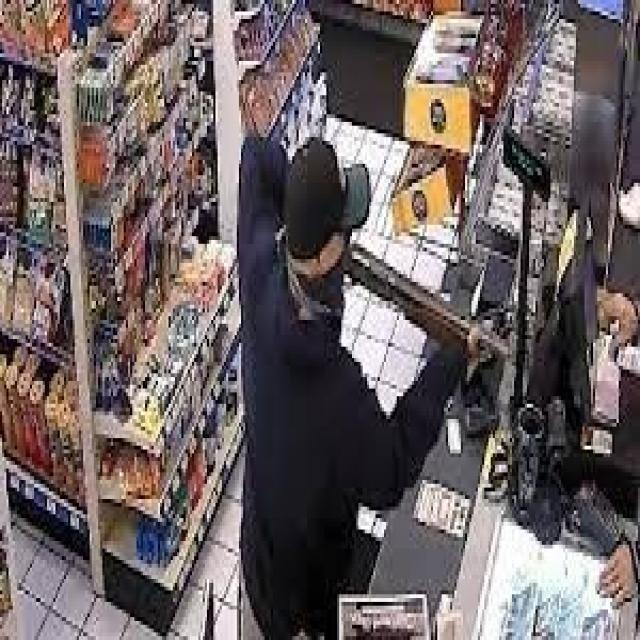gun: (341, 241, 509, 370)
